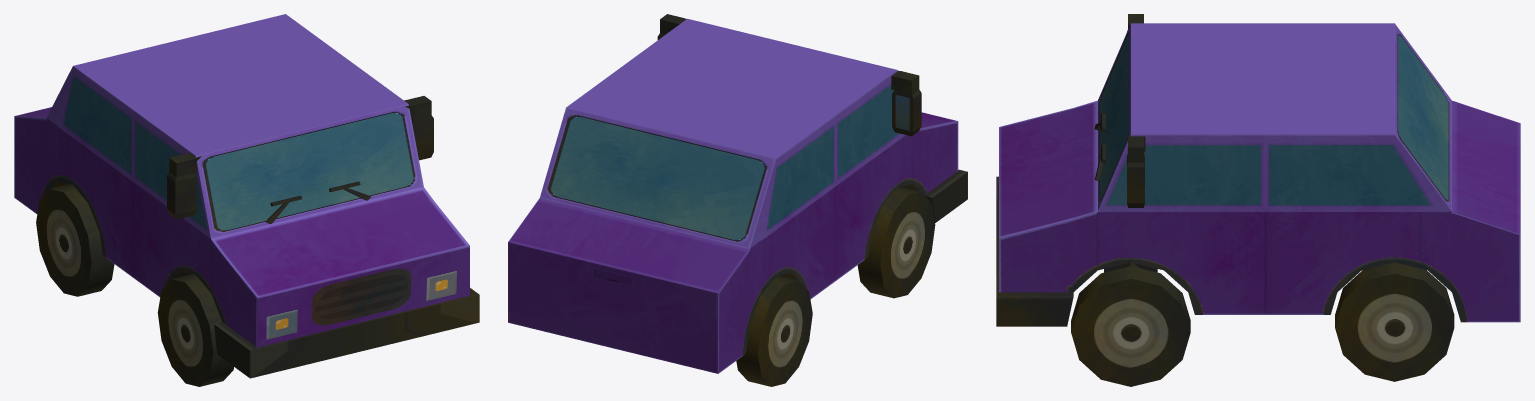
Rendered from CarKit.fbx_Car3.fbx.
The picture shows the model from 3 angles, left to right: view 1: azimuth 30°, elevation 25°; view 2: azimuth 150°, elevation 25°; view 3: azimuth 270°, elevation 25°; orthographic projection. The views are drawn at different scales.
Parts seen in each view (by area): view 1: Car.002; view 2: Car.002; view 3: Car.002.
Boxes of the visible parts, x1,y1,x2,y2 form: Car.002: [14, 14, 479, 386]; Car.002: [508, 14, 967, 386]; Car.002: [996, 14, 1520, 386].
Size of the model in its own units: 221 by 186 by 362.
1 material, 1 textured.
